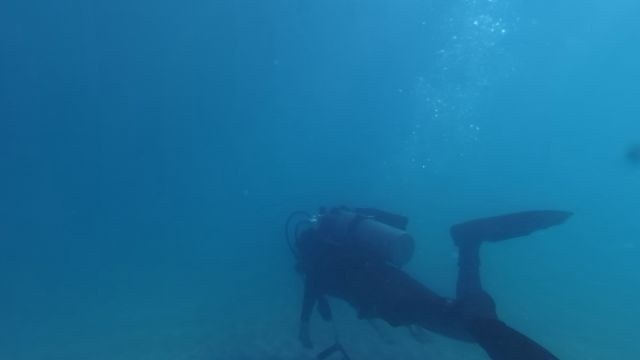Diver: (271, 194, 578, 358)
Hand: (317, 319, 344, 347), (292, 323, 317, 352)
